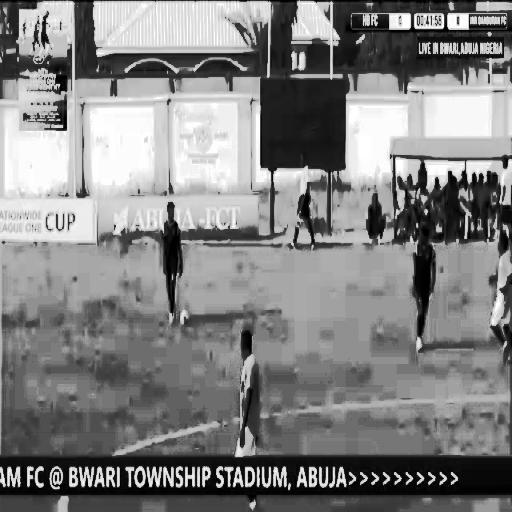ball: (178, 306, 192, 330)
referee: (292, 151, 323, 261)
team1: (230, 322, 262, 462), (485, 216, 512, 371)
team2: (409, 226, 441, 354), (156, 194, 183, 322)
